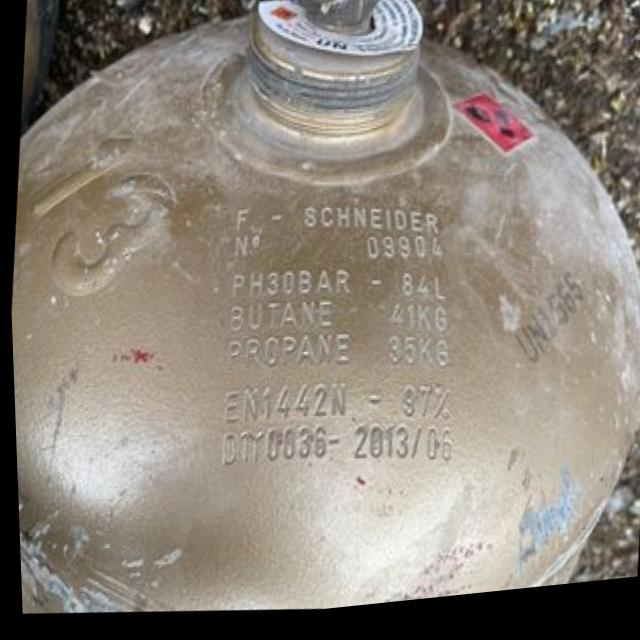ocr: (202, 185, 475, 507)
